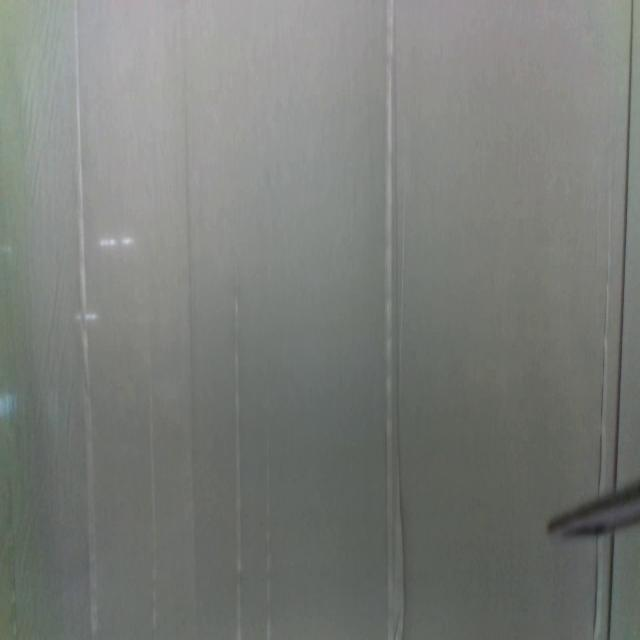crease: (73, 1, 98, 640), (183, 1, 202, 614), (615, 0, 635, 482), (392, 0, 406, 640), (384, 1, 393, 640), (596, 165, 612, 487), (232, 275, 245, 640), (149, 372, 158, 633), (263, 388, 272, 640), (605, 530, 617, 640), (592, 536, 602, 639)
